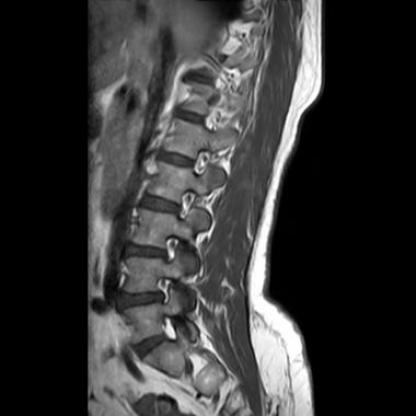Disc Bulgerotation: (121, 240, 167, 266), (117, 289, 163, 315)
